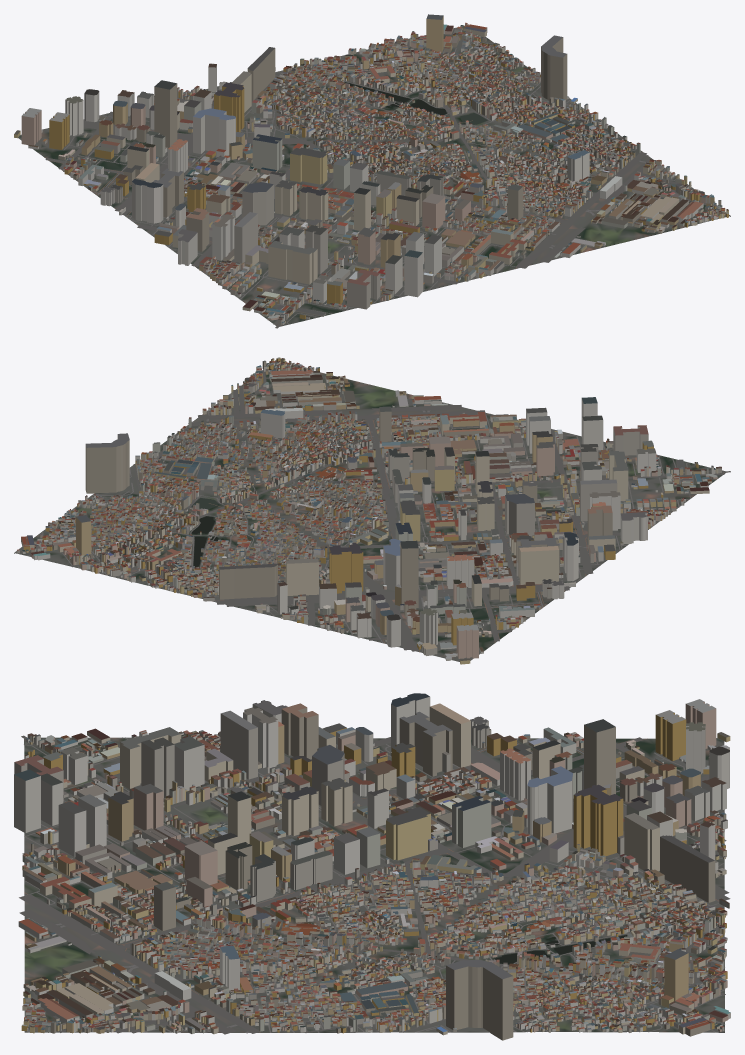
3 views of the same model, one above another, from view 1: azimuth 30°, elevation 25°; view 2: azimuth 150°, elevation 25°; view 3: azimuth 270°, elevation 25° (orthographic). The views are drawn at different scales.
Visible parts, largest first — view 1: buildings, ground, roads, water; view 2: buildings, ground, roads, water; view 3: buildings, ground, roads, water.
Part boxes in pixels (x1,y1,x2,y2): buildings: (14, 14, 728, 325); ground: (18, 25, 730, 326); roads: (19, 27, 725, 328); water: (344, 82, 487, 124); buildings: (17, 357, 721, 664); ground: (14, 365, 725, 661); roads: (20, 366, 730, 659); water: (191, 498, 223, 566); buildings: (14, 693, 730, 1040); ground: (24, 737, 724, 1032); roads: (19, 735, 730, 1034); water: (494, 935, 627, 964).
Bounding box in the file's own units: 1466 × 181 × 1435.
